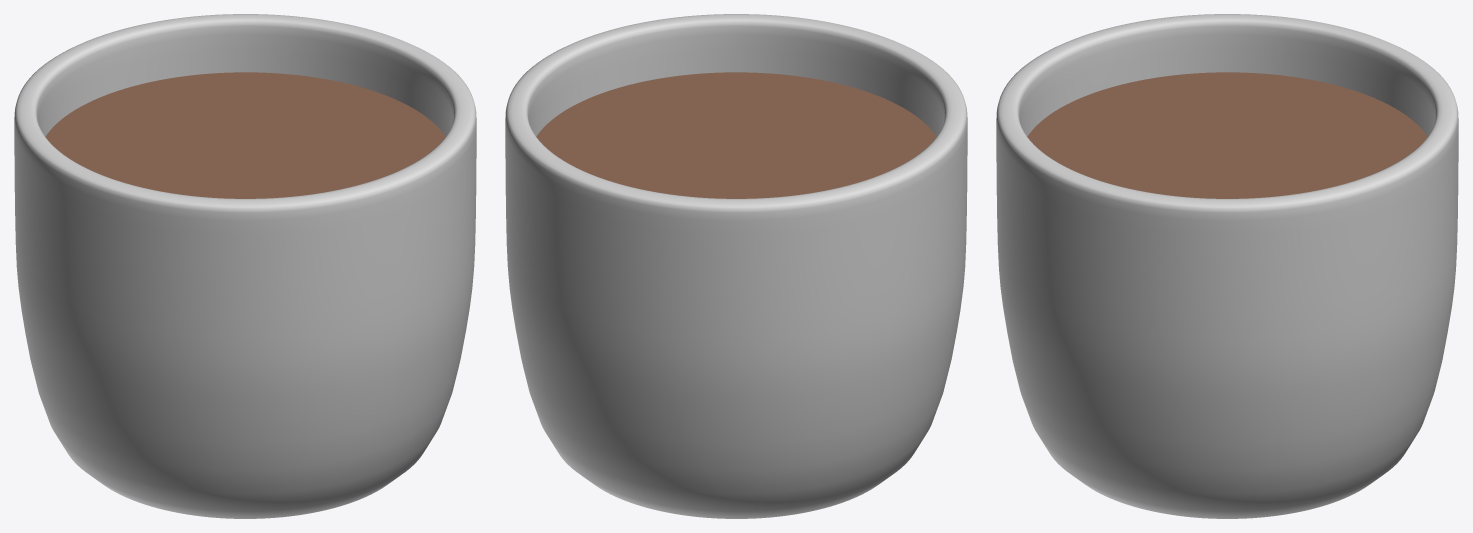
The model's file is basic_white.glb.
3 renders of one model, left to right at view 1: azimuth 30°, elevation 25°; view 2: azimuth 150°, elevation 25°; view 3: azimuth 270°, elevation 25°, orthographic.
Parts seen in each view (by area): view 1: Circle.002, Circle.001; view 2: Circle.002, Circle.001; view 3: Circle.002, Circle.001.
Boxes of the visible parts, x1,y1,x2,y2 form: Circle.002: (14, 14, 476, 518); Circle.001: (45, 72, 445, 198); Circle.002: (505, 14, 967, 518); Circle.001: (536, 72, 936, 198); Circle.002: (996, 14, 1458, 518); Circle.001: (1027, 72, 1427, 198).
Size of the model in its own units: 11.86 by 10.04 by 11.86.
